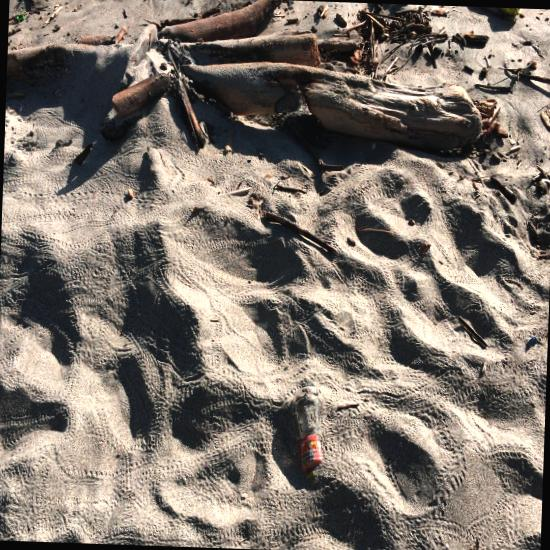Clear plastic bottle: (295, 386, 322, 486)
